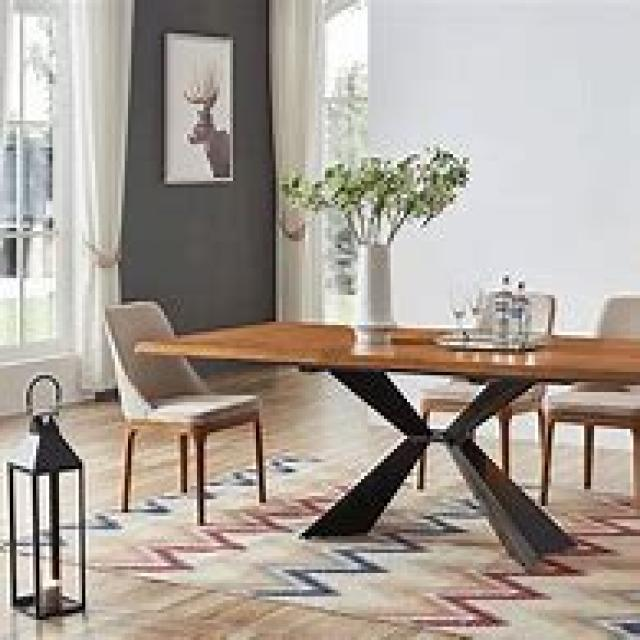chair: (102, 298, 266, 523), (414, 288, 554, 489), (538, 292, 637, 509)
table: (131, 315, 637, 566)
